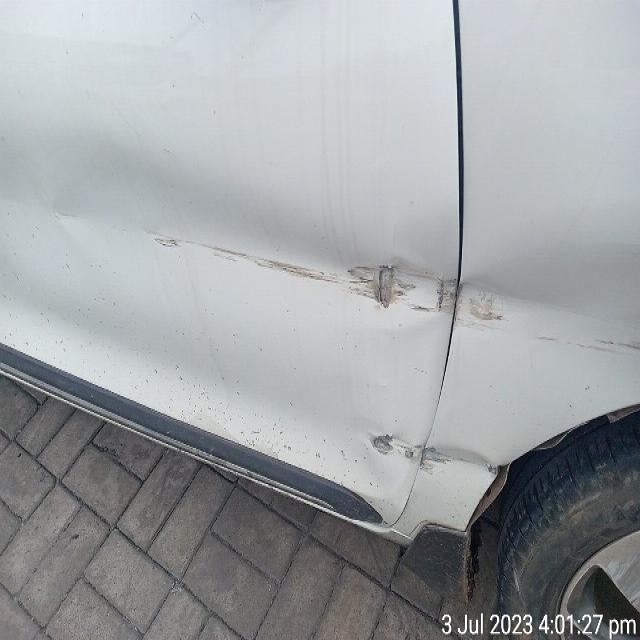damage: (93, 154, 461, 352), (466, 250, 640, 372), (363, 418, 503, 484)
